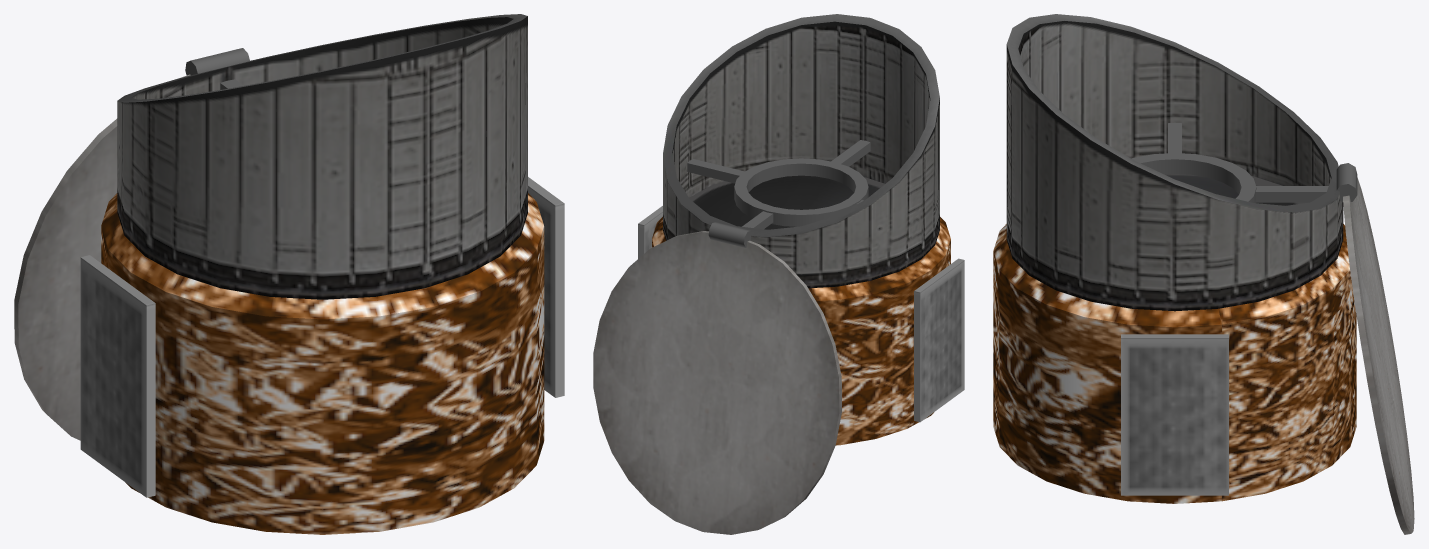
Rendered from telescope.DAE.
3 renders of one model, left to right at view 1: azimuth 30°, elevation 25°; view 2: azimuth 150°, elevation 25°; view 3: azimuth 270°, elevation 25°, orthographic. The views are drawn at different scales.
Visible parts, largest first — view 1: obj_base, obj_lid-Pivot; view 2: obj_base, obj_lid-Pivot; view 3: obj_base, obj_lid-Pivot.
Part boxes in pixels (bbox=[...]): obj_base: bbox=[80, 14, 564, 534]; obj_lid-Pivot: bbox=[14, 48, 251, 440]; obj_base: bbox=[638, 14, 964, 445]; obj_lid-Pivot: bbox=[593, 222, 841, 534]; obj_base: bbox=[993, 14, 1356, 503]; obj_lid-Pivot: bbox=[1336, 163, 1414, 534].
Size of what is drawn, in the model's own units: 0.5667 by 0.7525 by 0.6031.
